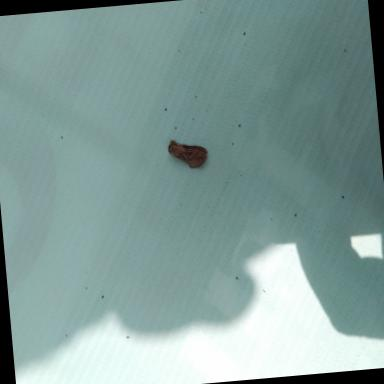pbw: (166, 138, 208, 172)
